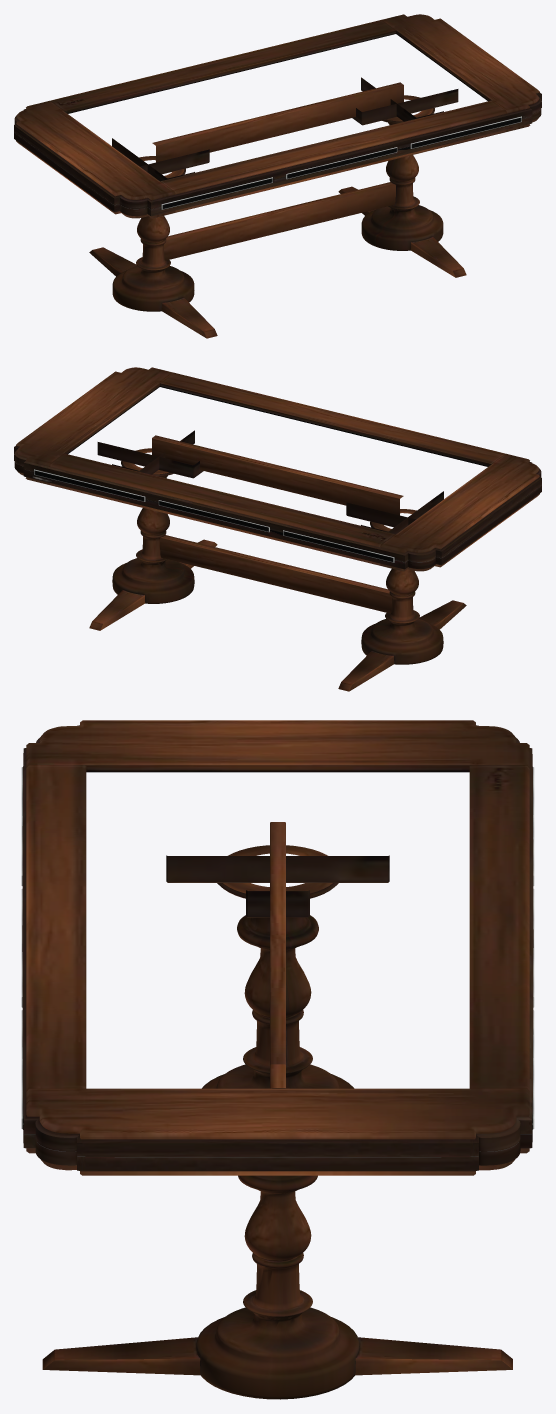
File: Table-transformed.glb
The picture shows the model from 3 angles, top to bottom: view 1: azimuth 30°, elevation 25°; view 2: azimuth 150°, elevation 25°; view 3: azimuth 270°, elevation 25°; orthographic projection. The views are drawn at different scales.
Parts seen in each view (by area): view 1: Trim, Cabinet Slots; view 2: Trim, Cabinet Slots; view 3: Trim, Cabinet Slots.
Boxes of the visible parts, x1,y1,x2,y2 form: Trim: [14, 14, 541, 338]; Cabinet Slots: [161, 116, 521, 209]; Trim: [14, 367, 541, 691]; Cabinet Slots: [34, 469, 394, 562]; Trim: [22, 720, 533, 1399]; Cabinet Slots: [21, 767, 534, 1129].
Size of the model in its own units: 30.98 by 10.99 by 16.05.
Materials: 2 (2 with a texture image).
